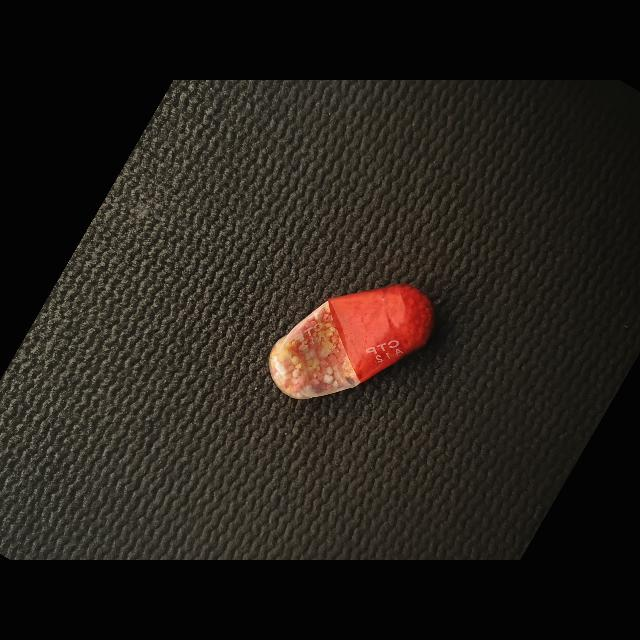Defective Capsule: (269, 284, 435, 399)
